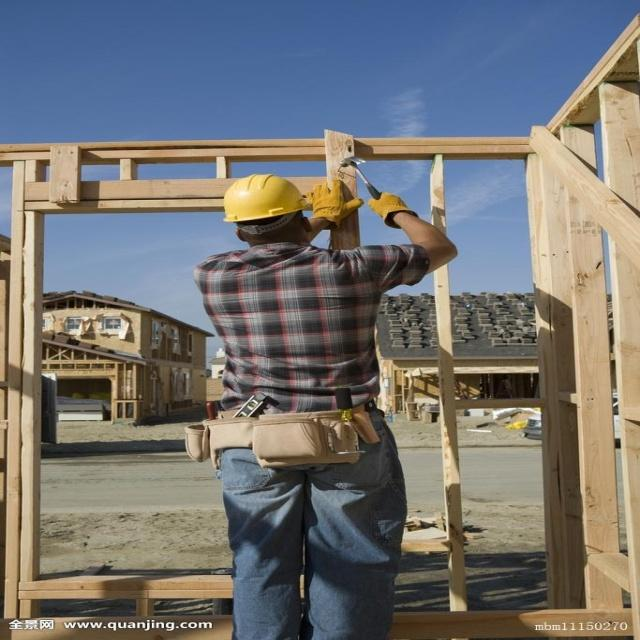helmet: (222, 231, 317, 333)
